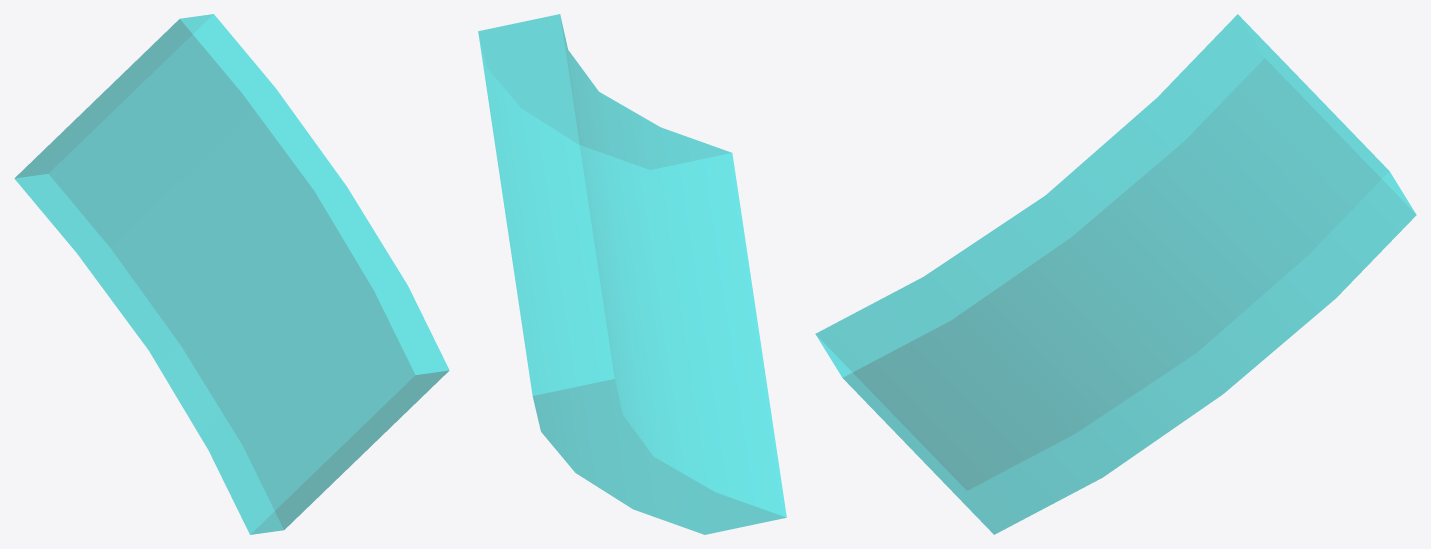
File: SM_Bld_Plane_Hull_01_Door_01_Collision.fbx
The picture shows the model from 3 angles, left to right: view 1: azimuth 30°, elevation 25°; view 2: azimuth 150°, elevation 25°; view 3: azimuth 270°, elevation 25°; orthographic projection. The views are drawn at different scales.
Visible parts, largest first — view 1: SM_Bld_Plane_Hull_01_Door_01_Collision; view 2: SM_Bld_Plane_Hull_01_Door_01_Collision; view 3: SM_Bld_Plane_Hull_01_Door_01_Collision.
Boxes of the visible parts, <box> form: SM_Bld_Plane_Hull_01_Door_01_Collision: <box>14,14,449,534</box>; SM_Bld_Plane_Hull_01_Door_01_Collision: <box>478,14,786,534</box>; SM_Bld_Plane_Hull_01_Door_01_Collision: <box>815,14,1416,534</box>.
Bounding box in the file's own units: 95.28 × 190 × 199.
